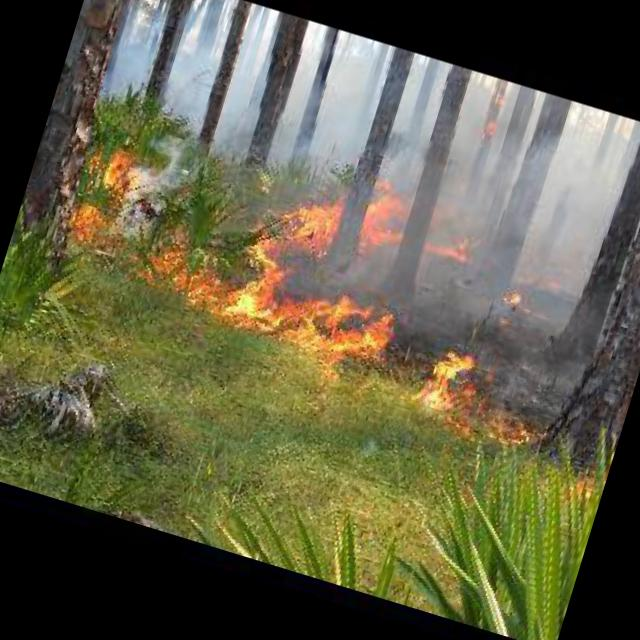fire: (127, 228, 400, 392), (414, 346, 550, 454), (66, 140, 142, 248), (354, 173, 416, 255), (281, 186, 344, 259), (514, 244, 582, 297), (470, 80, 510, 148), (428, 215, 482, 262), (496, 290, 554, 325)
